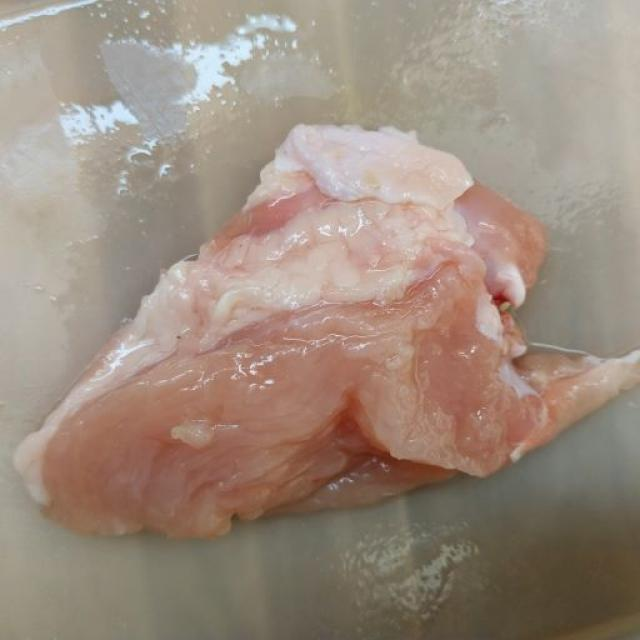chicken: (13, 114, 640, 550)
